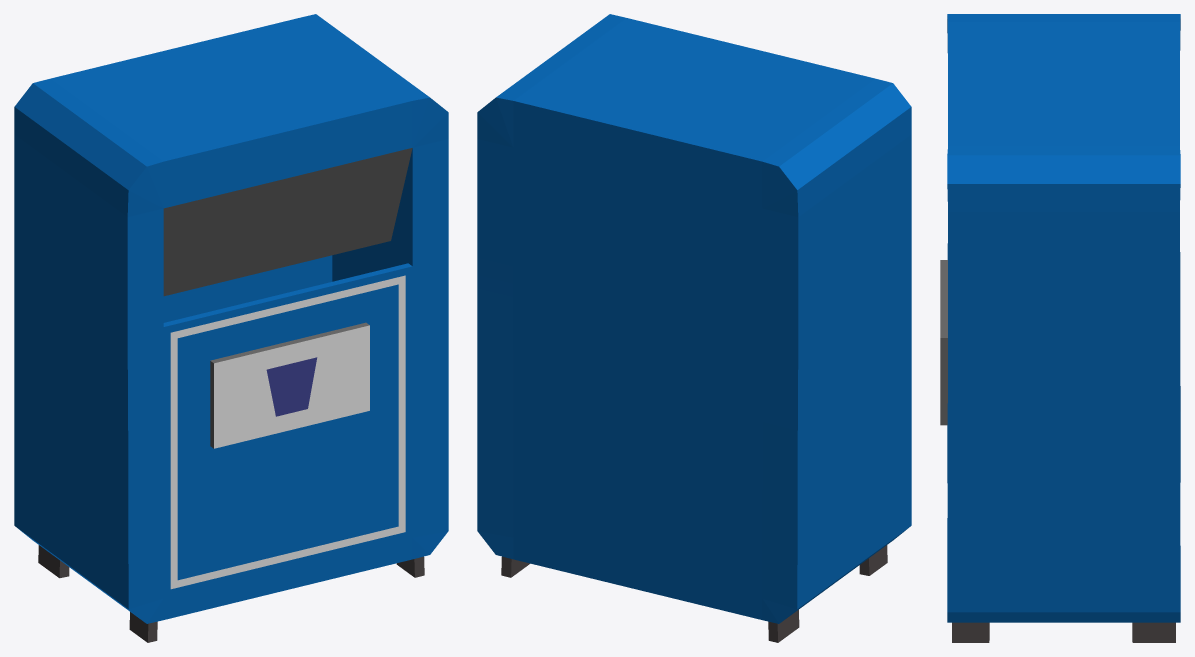
The model's file is Basura tipo 2.fbx.
3 views of the same model, side by side, from view 1: azimuth 30°, elevation 25°; view 2: azimuth 150°, elevation 25°; view 3: azimuth 270°, elevation 25° (orthographic). The views are drawn at different scales.
Visible parts, largest first — view 1: Basura_tipo_2; view 2: Basura_tipo_2; view 3: Basura_tipo_2.
Boxes of the visible parts, x1,y1,x2,y2 form: Basura_tipo_2: (14,14,448,642); Basura_tipo_2: (477,14,911,642); Basura_tipo_2: (940,14,1180,642).
Bounding box in the file's own units: 1.77 × 2.53 × 1.12.
